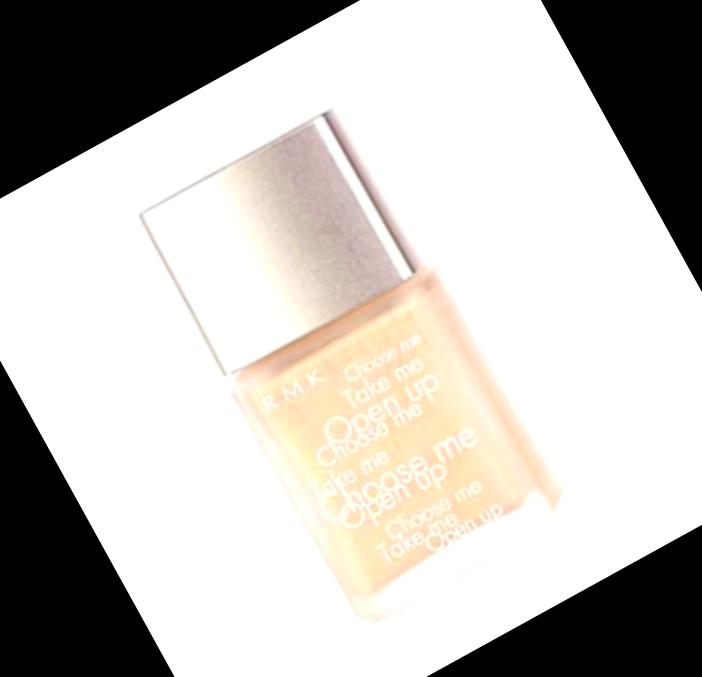cosmetic: (128, 93, 581, 634)
